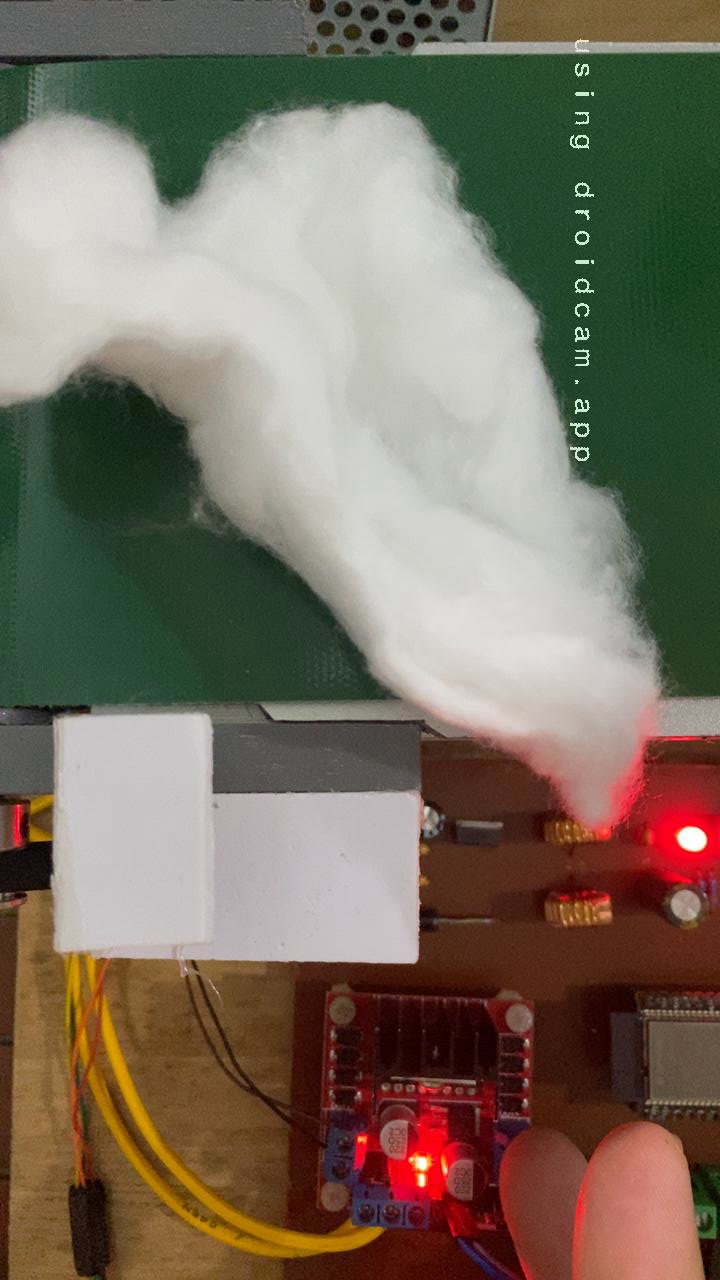cotton: (0, 96, 675, 700)
